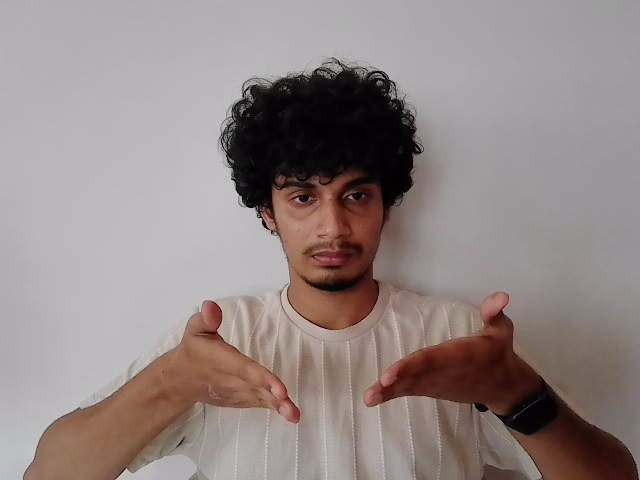here: (177, 292, 512, 424)
